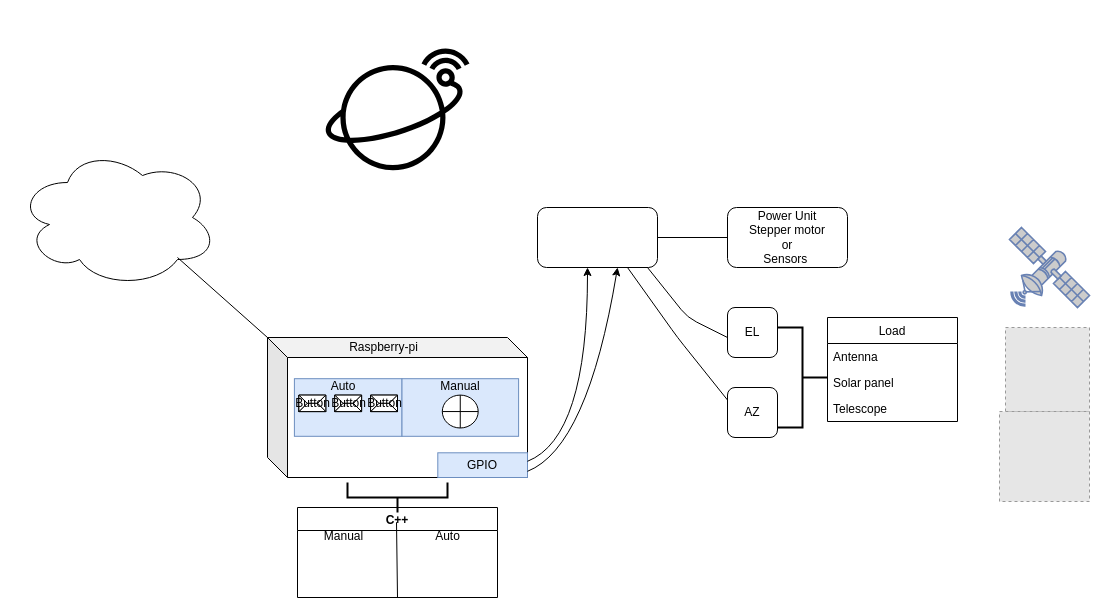
The diagram is 1108 pixels wide and 616 high, and some of its shapes have lost their labels. Grey dashed boxes stand in for pictures. Each missing label, with the centre of its shape:
Cloud/Internet: (x=117, y=217)
PCB: (x=597, y=237)
